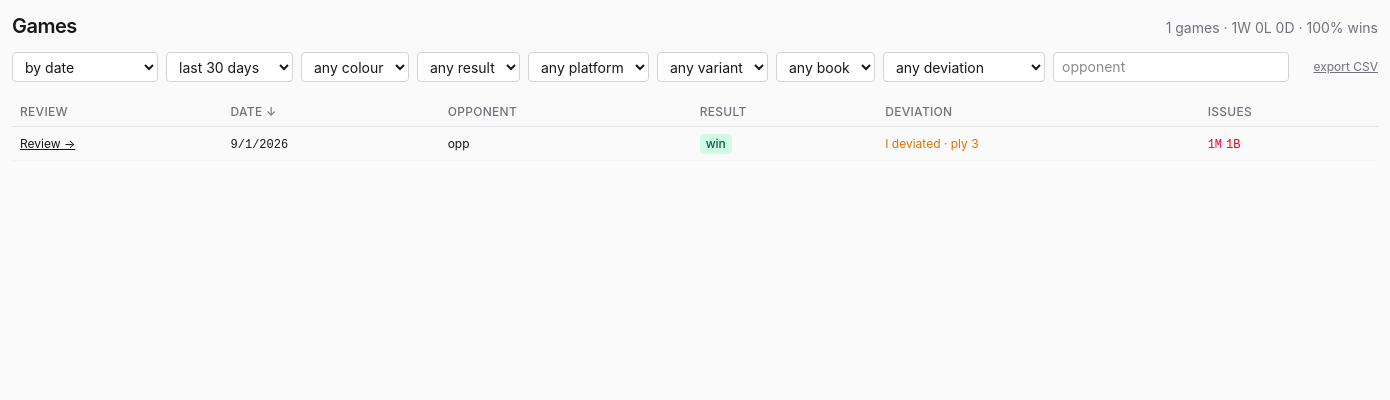
Games page › shows the settings-driven columns and expands a row
This screenshot has width=1390, height=400.
Expected: the text "1 games · 1W 0L 0D · 100% wins" is shown, left=1166, top=18, right=1378, bottom=38
Expected: the text "I deviated · ply 3" is shown, left=885, top=136, right=979, bottom=151
Step 1. Click the text "opp" → (459, 144), box left=448, top=136, right=470, bottom=151
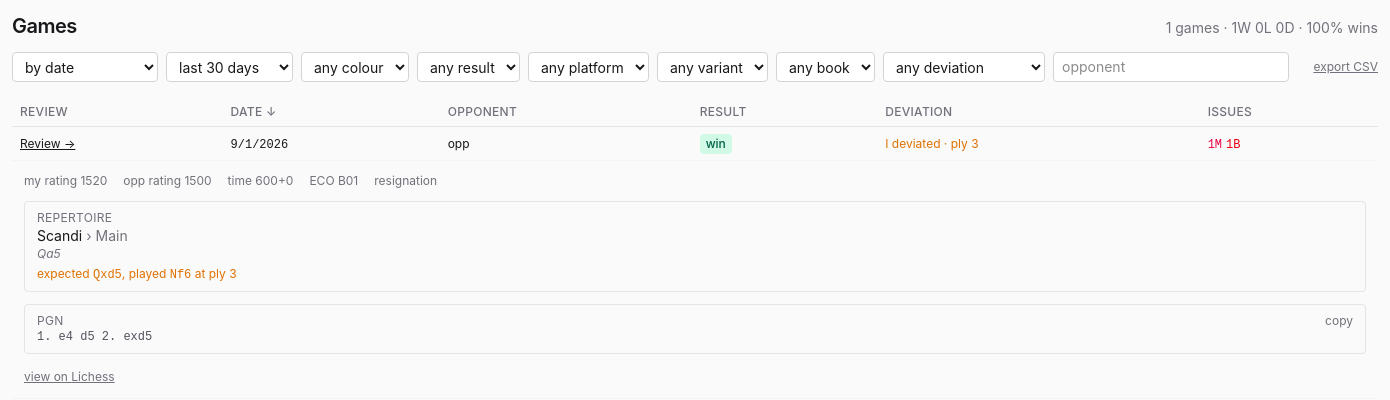
Expected: the text "1. e4 d5 2. exd5" is shown, left=37, top=330, right=152, bottom=344
Expected: the text "expected Qxd5, played Nf6 at ply 3" is shown, left=37, top=266, right=237, bottom=282
